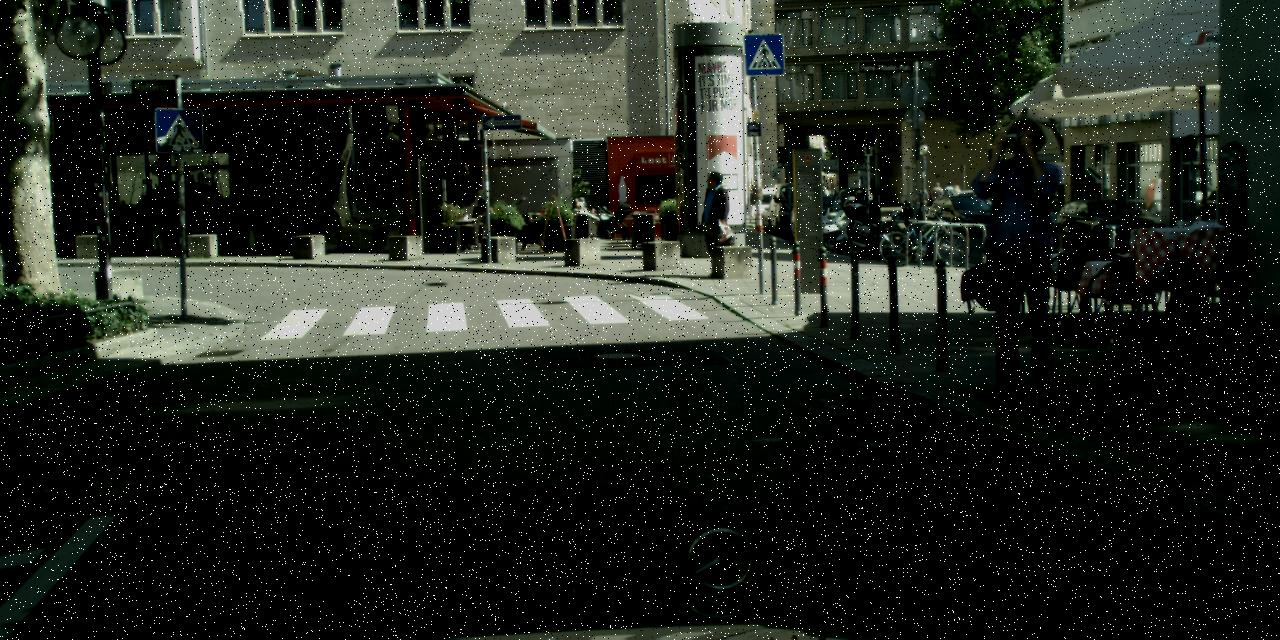ped: (966, 114, 1084, 402), (694, 170, 737, 274), (926, 182, 960, 207), (572, 197, 600, 227), (918, 188, 922, 208)
